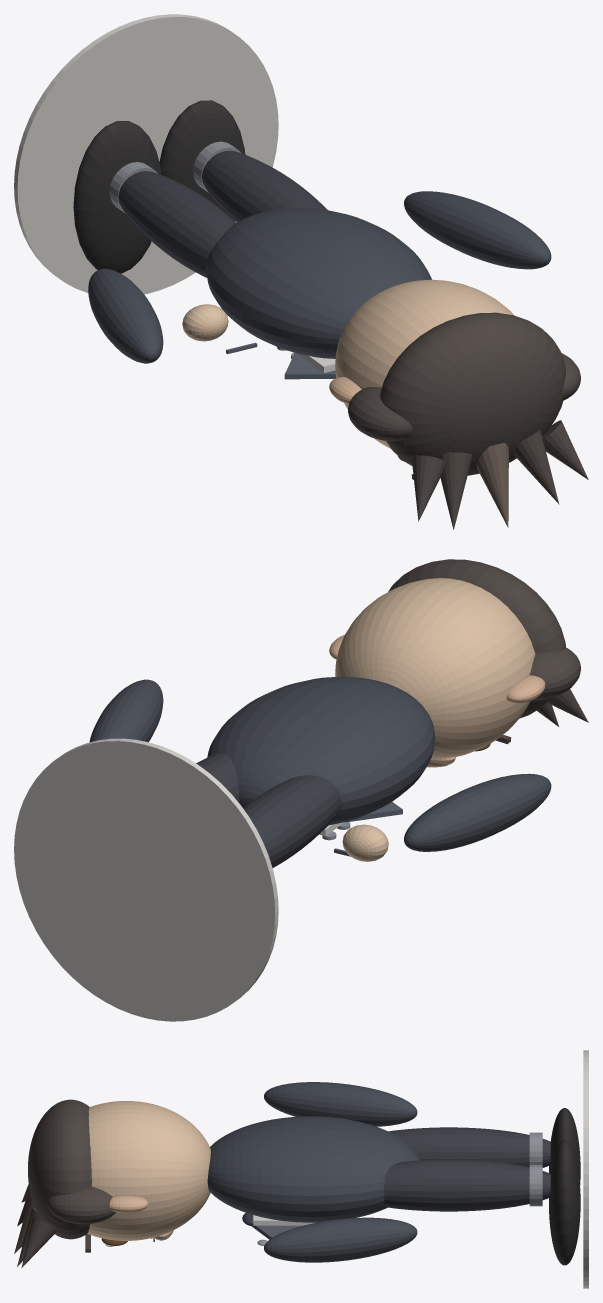
Rendered from avatar.glb.
3 views of the same model, one above another, from view 1: azimuth 30°, elevation 25°; view 2: azimuth 150°, elevation 25°; view 3: azimuth 270°, elevation 25° (orthographic). The views are drawn at different scales.
Visible parts, largest first — view 1: subtle presentation base, tailored black suit torso, short black hair cap, warm stylized face matching reference photo, left polished black dress shoe, left tailored trouser leg, right suit sleeve, right tailored trouser leg, left suit sleeve, right polished black dress shoe, left neat side hair, brushed formal hairstyle strand 3 (+8 smaller); view 2: subtle presentation base, warm stylized face matching reference photo, tailored black suit torso, left suit sleeve, left tailored trouser leg, short black hair cap, right suit sleeve, left neat side hair, left hand near trouser pocket, right tailored trouser leg, left ear; view 3: tailored black suit torso, warm stylized face matching reference photo, right tailored trouser leg, short black hair cap, right suit sleeve, left suit sleeve, left tailored trouser leg, right polished black dress shoe, right neat side hair, subtle presentation base, left polished black dress shoe, brushed formal hairstyle strand 5 (+6 smaller).
Part boxes in pixels (x1,y1,x2,y2): subtle presentation base: [14, 14, 278, 294]; tailored black suit torso: [206, 207, 431, 358]; short black hair cap: [380, 312, 565, 475]; warm stylized face matching reference photo: [335, 279, 514, 448]; left polished black dress shoe: [73, 121, 161, 273]; left tailored trouser leg: [118, 171, 235, 277]; right suit sleeve: [404, 191, 551, 269]; right tailored trouser leg: [201, 150, 327, 222]; left suit sleeve: [88, 268, 163, 363]; right polished black dress shoe: [159, 100, 245, 220]; left neat side hair: [348, 387, 412, 441]; brushed formal hairstyle strand 3: [476, 443, 508, 527]; subtle presentation base: [14, 738, 278, 1021]; warm stylized face matching reference photo: [335, 578, 535, 759]; tailored black suit torso: [207, 676, 435, 825]; left suit sleeve: [404, 773, 551, 851]; left tailored trouser leg: [243, 775, 341, 867]; short black hair cap: [388, 559, 565, 718]; right suit sleeve: [89, 679, 163, 742]; left neat side hair: [530, 647, 580, 699]; left hand near trouser pocket: [342, 824, 388, 861]; right tailored trouser leg: [196, 752, 239, 802]; left ear: [506, 675, 545, 703]; tailored black suit torso: [207, 1116, 419, 1222]; warm stylized face matching reference photo: [87, 1101, 210, 1240]; right tailored trouser leg: [384, 1159, 550, 1211]; short black hair cap: [28, 1099, 91, 1239]; right suit sleeve: [264, 1217, 417, 1262]; left suit sleeve: [264, 1082, 417, 1126]; left tailored trouser leg: [388, 1127, 550, 1167]; right polished black dress shoe: [549, 1140, 580, 1265]; right neat side hair: [47, 1186, 115, 1224]; subtle presentation base: [583, 1050, 588, 1288]; left polished black dress shoe: [549, 1108, 580, 1185]; brushed formal hairstyle strand 5: [21, 1217, 56, 1267].
Size of the model in its own units: 2.4 by 1.5 by 3.62.
